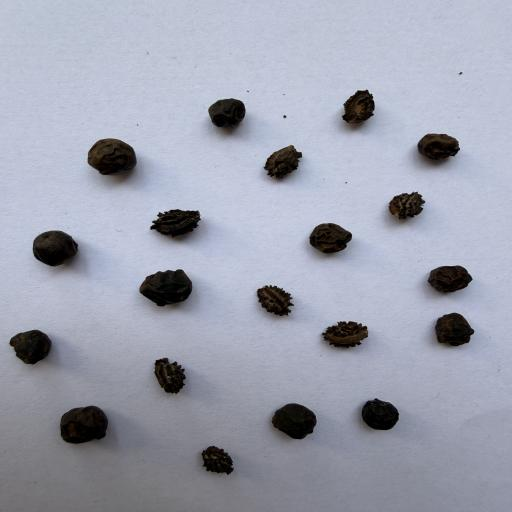Black_pepper: (137, 268, 197, 308), (59, 402, 110, 447), (87, 138, 137, 178), (269, 401, 317, 439), (6, 329, 55, 366), (433, 309, 476, 349), (34, 229, 79, 266), (308, 221, 354, 254), (362, 398, 402, 432), (206, 96, 247, 128), (418, 130, 461, 160), (430, 264, 473, 293)
papaya_seed: (306, 304, 401, 370), (244, 134, 330, 198), (181, 418, 255, 490), (132, 196, 217, 250), (127, 349, 202, 406), (371, 188, 464, 232), (330, 72, 397, 130), (247, 273, 306, 331)
